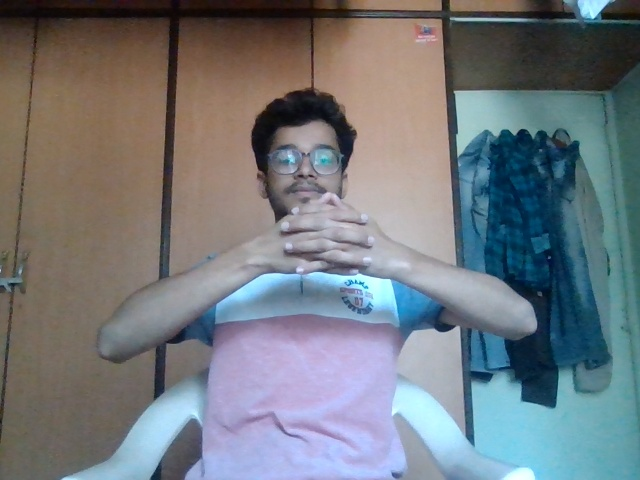good: (270, 188, 389, 296)
